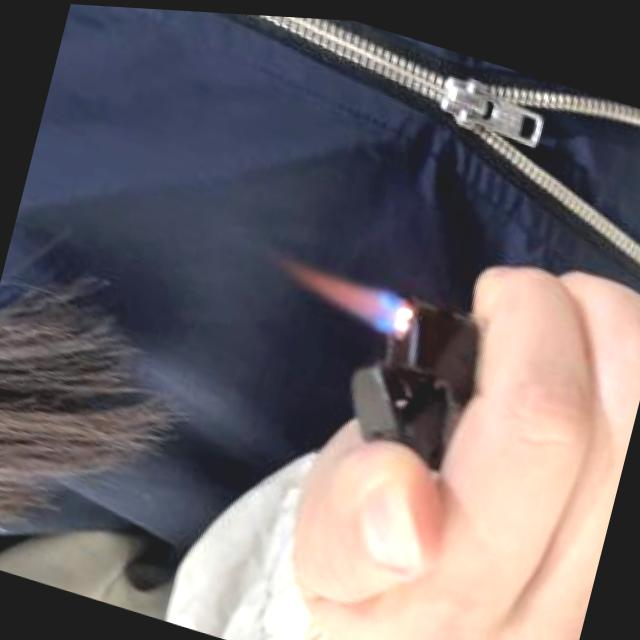fire: (288, 255, 401, 330)
